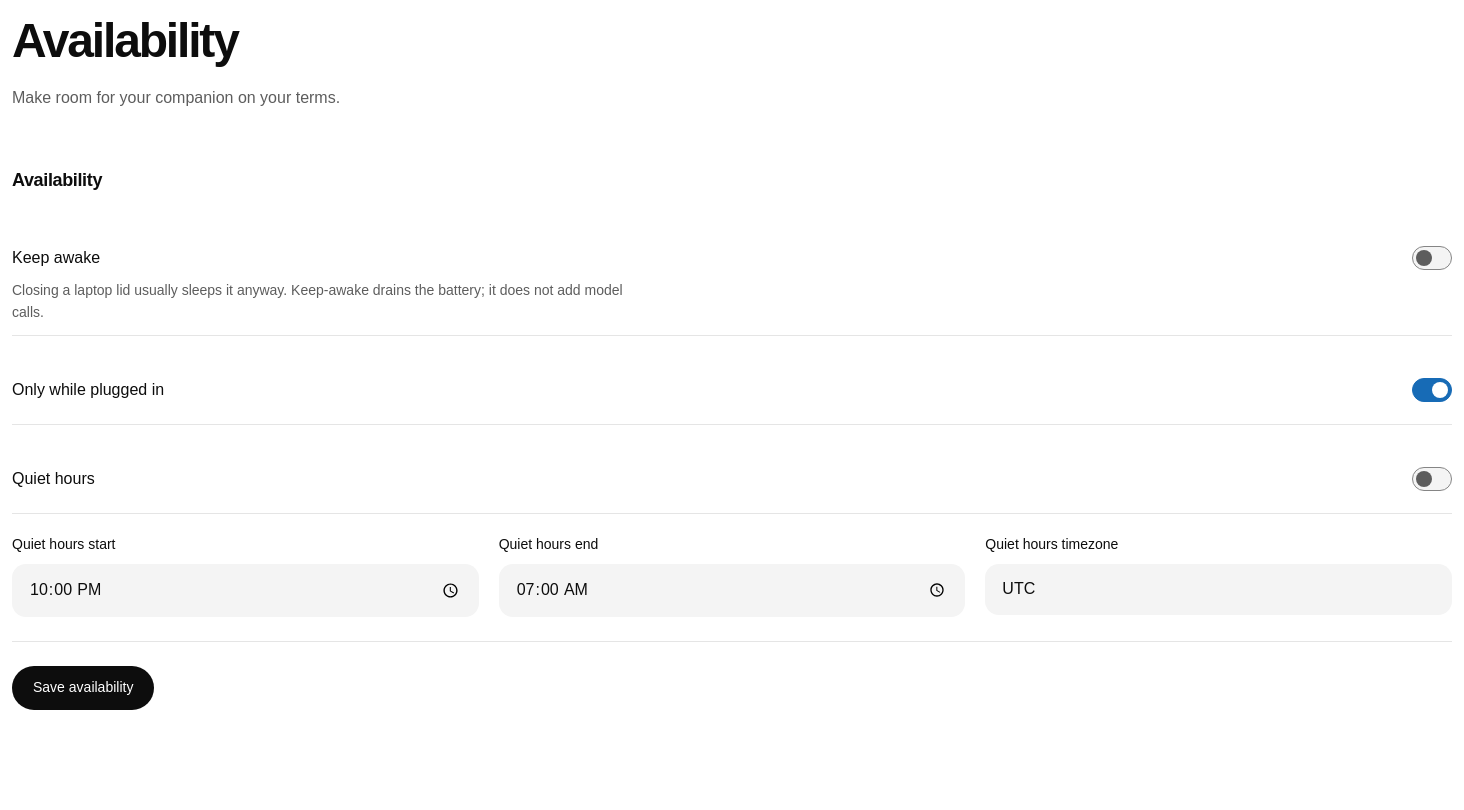
saving availability preserves newer values in every other section
Click the button "Save availability": (83, 688) [12,666,154,710]
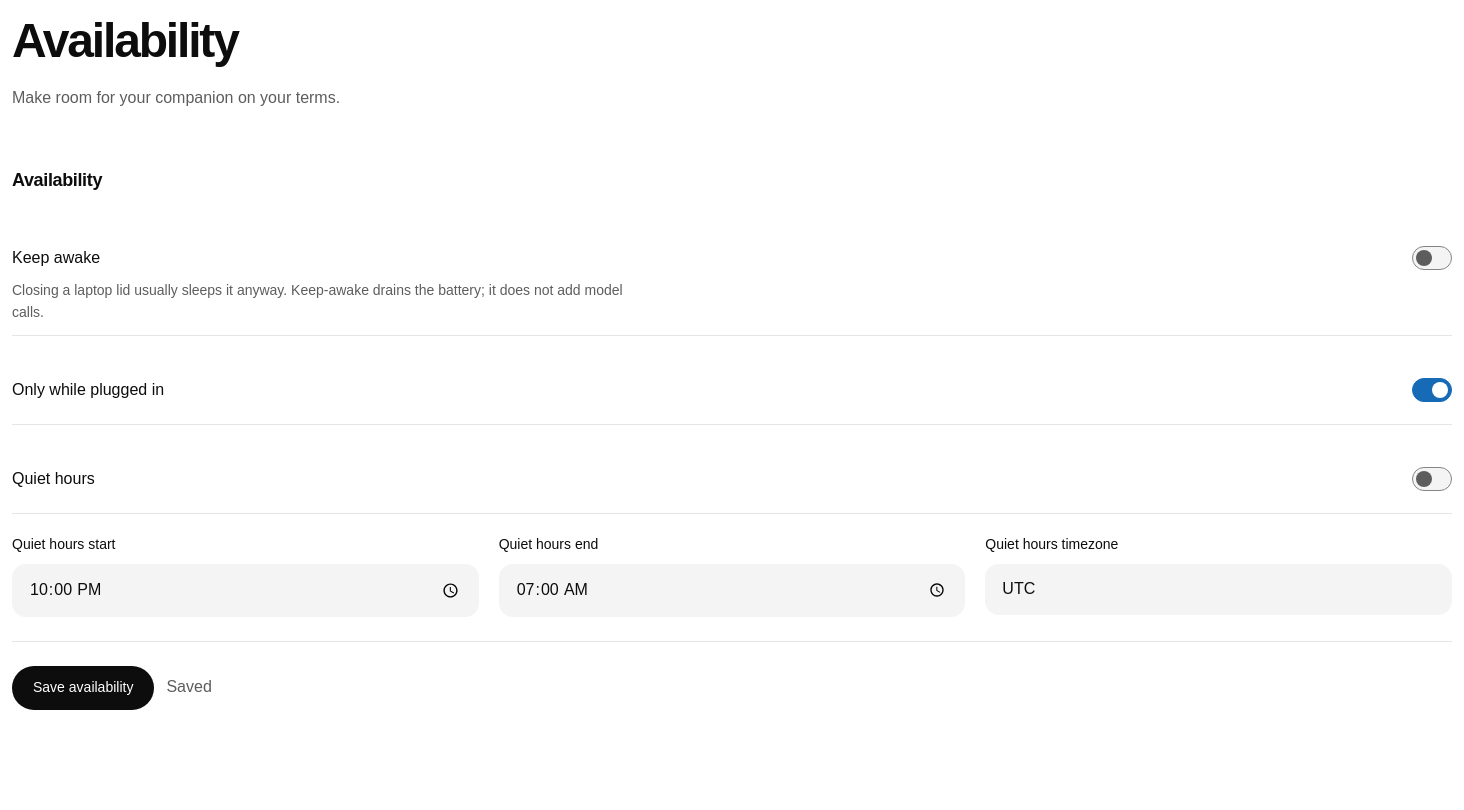
Now the text "Saved" is shown, box [166,675,212,700]
